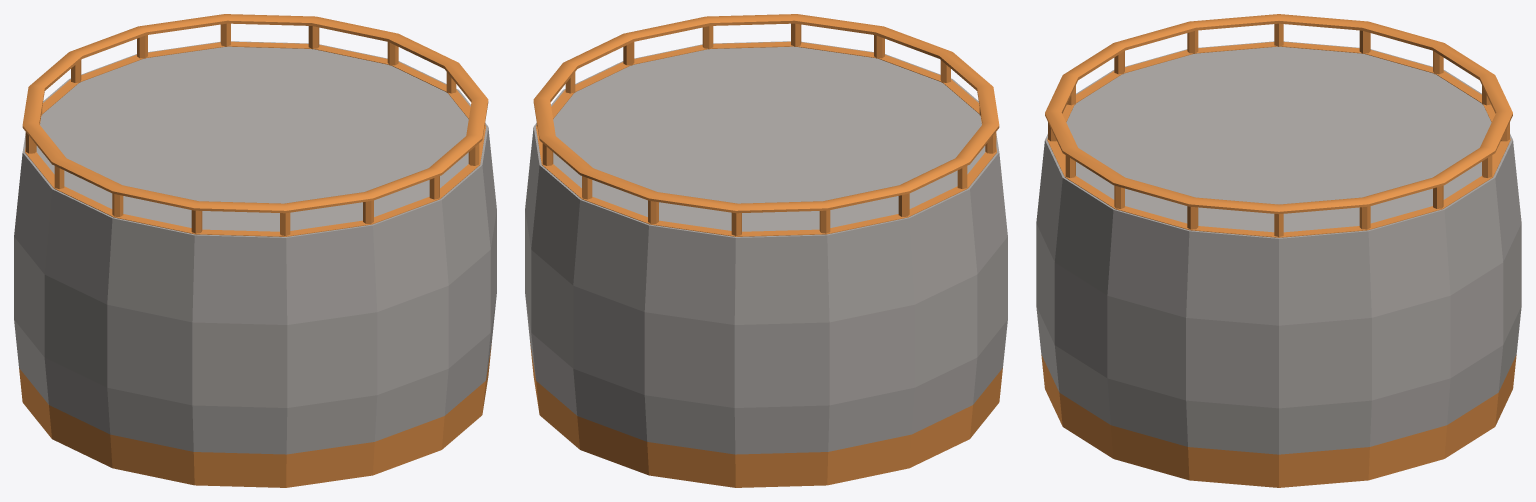
Rendered from Cistern_1.fbx.
3 views of the same model, side by side, from view 1: azimuth 30°, elevation 25°; view 2: azimuth 150°, elevation 25°; view 3: azimuth 270°, elevation 25° (orthographic).
Visible parts, largest first — view 1: Cistern_1; view 2: Cistern_1; view 3: Cistern_1.
Boxes of the visible parts, x1,y1,x2,y2 form: Cistern_1: [14, 14, 496, 487]; Cistern_1: [525, 14, 1007, 487]; Cistern_1: [1036, 14, 1521, 487].
Size of the model in its own units: 1021 by 646 by 1021.
